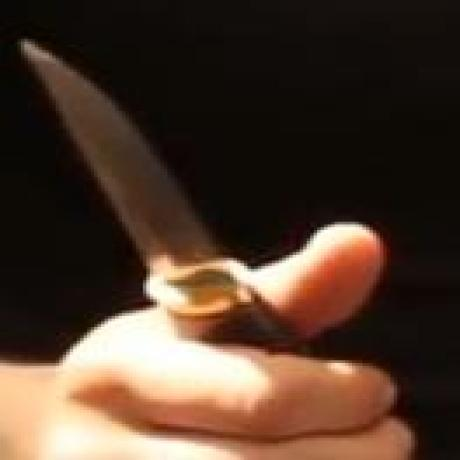weapon: (21, 30, 263, 312)
